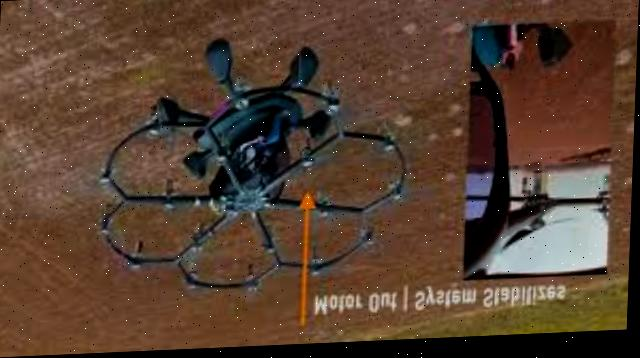drone: (82, 22, 418, 314)
